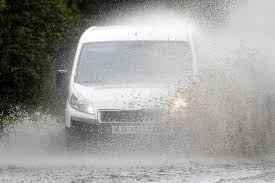car: (65, 25, 211, 137)
